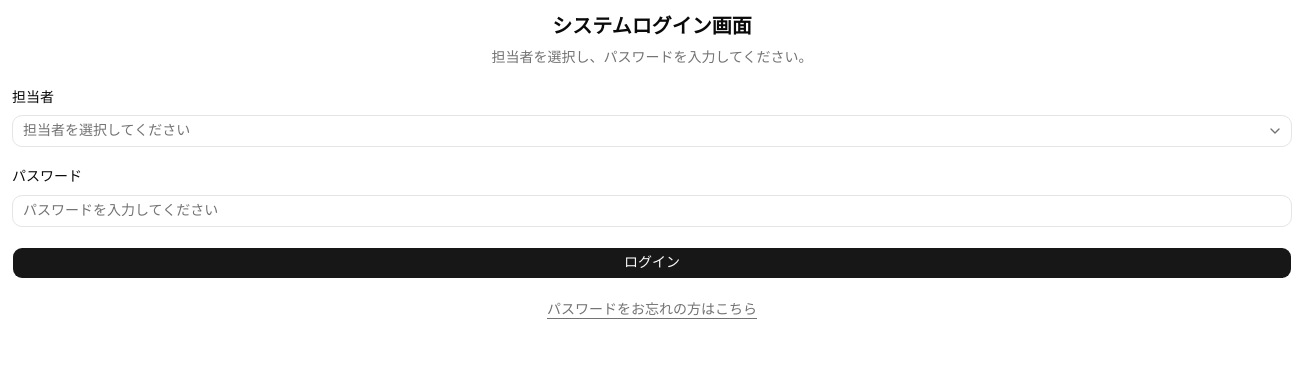
Test case: LoginForm › 担当者を選択せずにログインすると、担当者選択を促すメッセージを表示する
Type "test-password" into the password field labelled "パスワード" at (652, 210), box [12,194,1292,226]
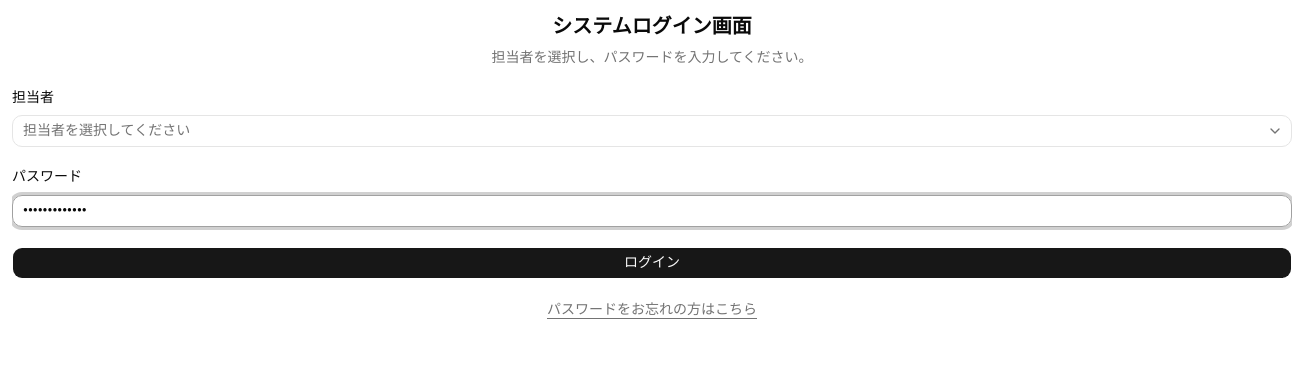
Click the button "ログイン" at (652, 262), box [12,246,1292,278]
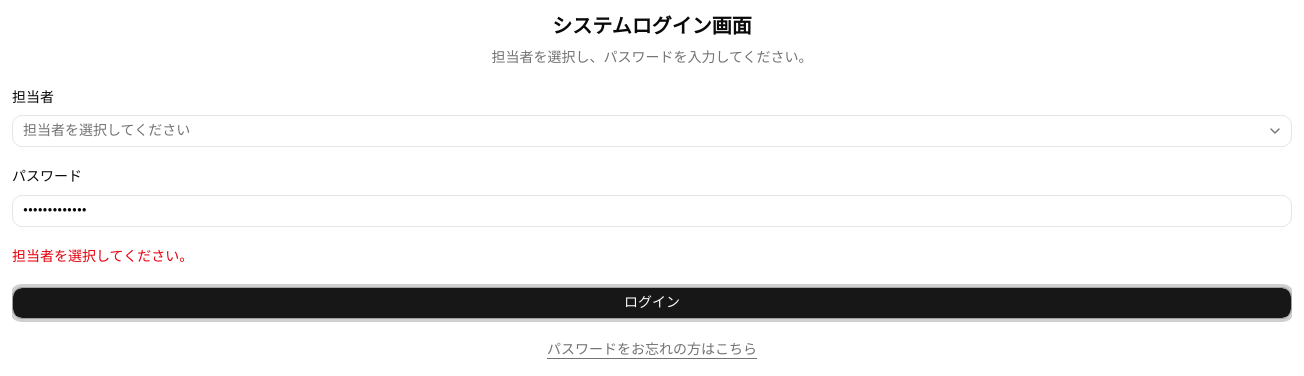
Now the text "担当者を選択してください。" is shown, box [12,248,193,264]
